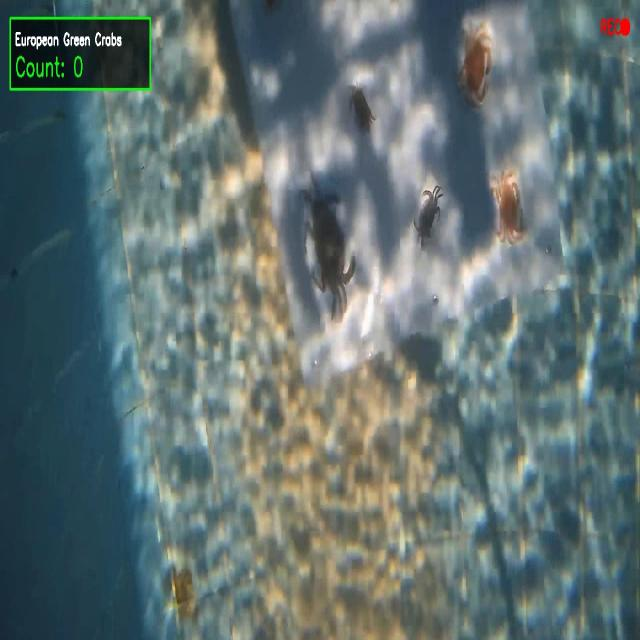European_Green_Crab: (287, 152, 367, 340), (407, 176, 454, 258)
